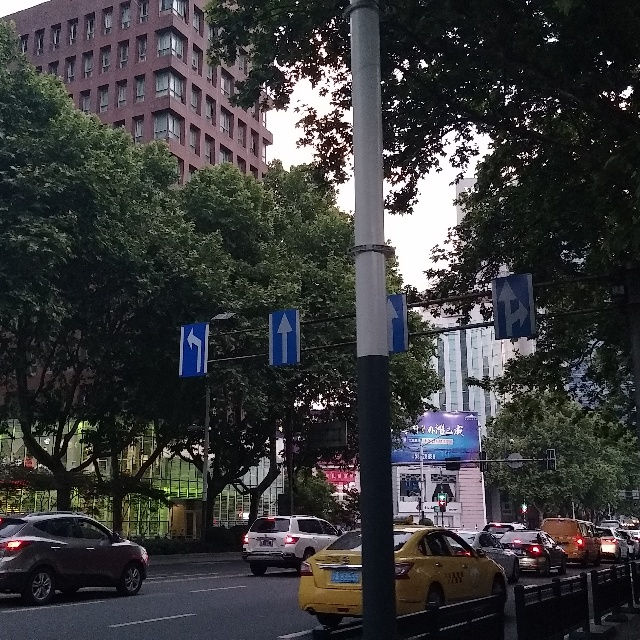left: (176, 328, 209, 378)
straight: (377, 297, 409, 352), (271, 311, 300, 364)
